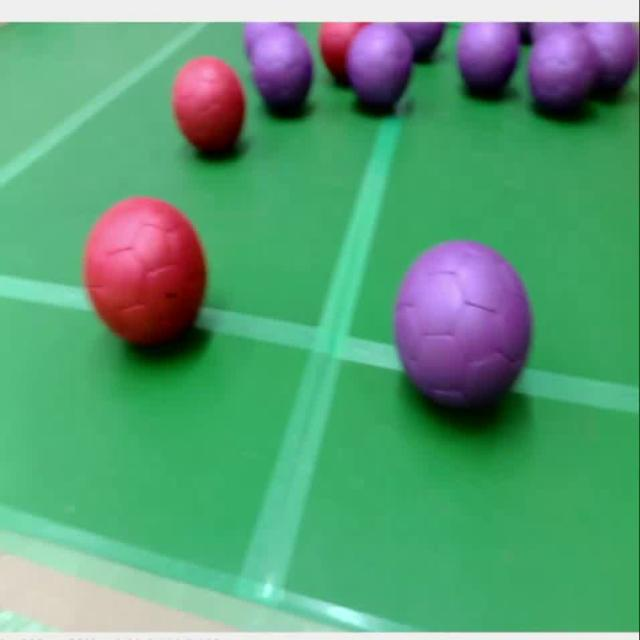purple_ball: (391, 241, 536, 418), (527, 28, 597, 123), (352, 28, 417, 115), (249, 28, 313, 113), (580, 20, 640, 102), (457, 22, 519, 101), (246, 19, 296, 55), (402, 22, 446, 62)
red_ball: (84, 195, 208, 350), (171, 56, 244, 158), (320, 21, 349, 86)
